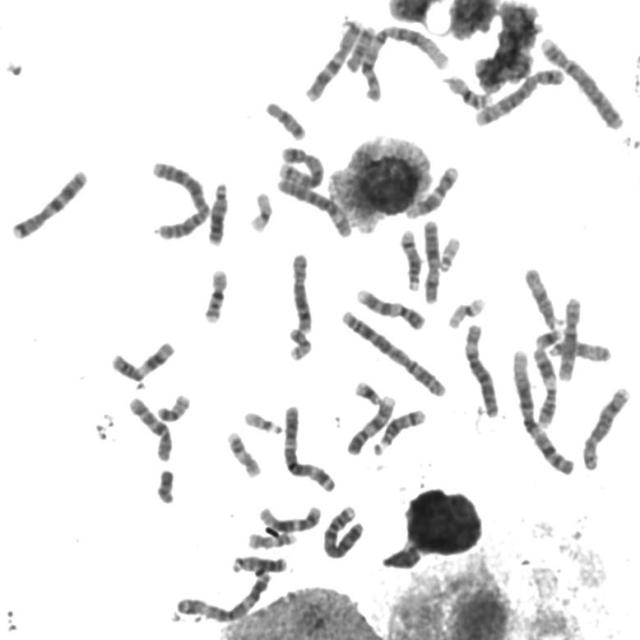A1: (508, 344, 578, 477), (356, 18, 453, 104)
A2: (337, 305, 449, 399), (146, 156, 212, 242)
A3: (172, 568, 274, 624), (279, 400, 338, 493)
B4: (537, 32, 627, 132), (320, 502, 367, 560)
B5: (471, 64, 567, 127), (275, 142, 326, 189)
C10: (125, 392, 174, 463), (555, 292, 584, 382)
C11: (108, 337, 177, 383), (529, 344, 559, 429)
C12: (402, 161, 461, 221), (256, 500, 324, 534)
C6: (274, 173, 354, 239), (461, 318, 502, 419)
C7: (8, 164, 90, 242), (301, 15, 365, 103)
C8: (578, 381, 633, 473), (287, 248, 315, 335)
C9: (343, 391, 398, 456), (353, 284, 428, 331)
D13: (204, 177, 231, 247), (227, 550, 289, 576)
D14: (370, 404, 428, 456), (396, 225, 424, 292)
D15: (521, 262, 565, 330), (544, 336, 614, 363)
E16: (442, 70, 495, 110), (200, 264, 230, 326)
E17: (223, 426, 263, 479), (244, 528, 299, 550)
E18: (262, 98, 308, 142), (342, 21, 378, 74)
F19: (444, 292, 488, 330), (246, 188, 275, 234)
F20: (154, 389, 192, 423), (284, 323, 314, 362)
G21: (351, 376, 384, 406), (532, 324, 564, 350)
G22: (240, 406, 284, 436), (435, 232, 463, 272)
X: (420, 215, 442, 305)
Y: (153, 465, 178, 506)
